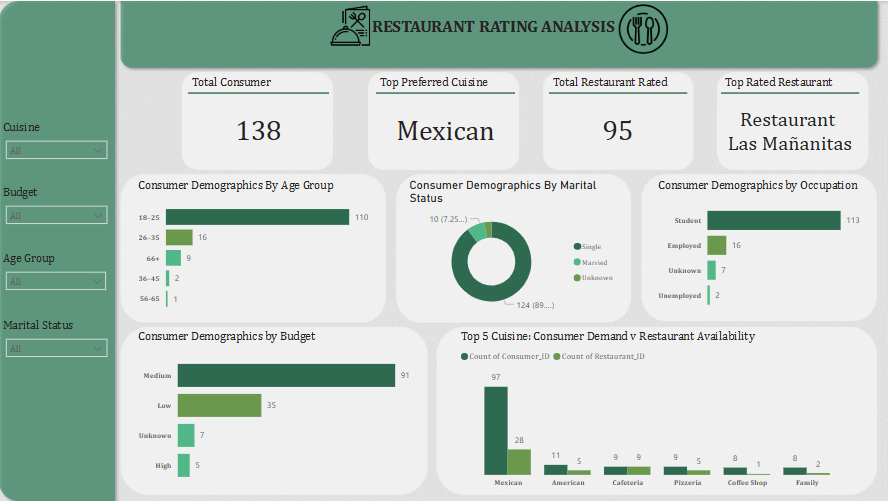

What the dashboard file says about the page in this screenshot:
{"tool":"powerbi","page":{"name":"Page 4","canvas":[1280,720],"ordinal":1},"visuals":[{"type":"barChart","title":"Consumer Demographics By Age Group","fields":{"Y":["CountNonNull(consumers.Consumer_ID)"],"Category":["consumers.Age Group"]},"box":[194.4,254.9,348.5,203],"z":0},{"type":"donutChart","title":"Consumer Demographics By Marital Status","fields":{"Category":["consumers.Marital_Status"],"Y":["CountNonNull(consumers.Consumer_ID)"]},"box":[586.1,254.9,312.5,203],"z":1000},{"type":"clusteredBarChart","title":"Consumer Demographics by Occupation","fields":{"Category":["consumers.Occupation"],"Y":["CountNonNull(consumers.Consumer_ID)"]},"box":[943.2,254.9,305.3,203],"z":2000},{"type":"clusteredBarChart","title":"Consumer Demographics by Budget","fields":{"Category":["consumers.Budget"],"Y":["CountNonNull(consumers.Consumer_ID)"]},"box":[194.8,471.9,402.6,236.7],"z":3000},{"type":"clusteredColumnChart","title":"Top 5 Cuisine: Consumer Demand v Restaurant Availability","fields":{"Y":["CountNonNull(consumer_preferences.Consumer_ID)","CountNonNull(restaurant_cuisines.Restaurant_ID)"],"Category":["Cuisine_Dim.Cuisine"]},"box":[659.5,472.3,578.9,236.2],"z":4000},{"type":"card","title":"Total Consumer","fields":{"Values":["Count(consumers.Consumer_ID)"]},"box":[272.2,106.6,203,128.2],"z":5000},{"type":"card","title":"Top Preferred Cuisine","fields":{"Values":["ratings.Top_Pref_Cuisine"]},"box":[542.9,106.6,200.2,128.2],"z":6000},{"type":"card","title":"Total Restaurant Rated","fields":{"Values":["Count(restaurant_cuisines.Restaurant_ID)"]},"box":[792,106.6,198.7,128.2],"z":7000},{"type":"card","title":"Top Rated Restaurant","fields":{"Values":["ratings.Top_Rated_Restaurant"]},"box":[1039.7,106.6,198.7,128.2],"z":8000},{"type":"slicer","title":"Cuisine","fields":{"Values":["Cuisine_Dim.Cuisine"]},"box":[0,171.4,165.6,73.4],"z":9000},{"type":"slicer","title":"Budget","fields":{"Values":["consumers.Budget"]},"box":[0,265,165.6,76.3],"z":10000},{"type":"slicer","title":"Age Group","fields":{"Values":["consumers.Age Group"]},"box":[0,360,164.2,76.3],"z":11000},{"type":"slicer","title":"Marital Status","fields":{"Values":["consumers.Marital_Status"]},"box":[0,456.5,165.6,85],"z":12000},{"type":"textbox","box":[414.7,0,576,93.6],"z":13000},{"type":"image","box":[459.4,0,92.2,70.6],"z":14000},{"type":"image","box":[865.4,0,125.3,80.6],"z":15000}]}

Visuals, with their boxes in screenshot pixels (x1, y1, x2, y2), scaled from the page's 1280x720 canvas onto the 888x501 screenshot:
"Consumer Demographics By Age Group" barChart: [135, 177, 377, 319]
"Consumer Demographics By Marital Status" donutChart: [407, 177, 623, 319]
"Consumer Demographics by Occupation" clusteredBarChart: [654, 177, 866, 319]
"Consumer Demographics by Budget" clusteredBarChart: [135, 328, 414, 493]
"Top 5 Cuisine: Consumer Demand v Restaurant Availability" clusteredColumnChart: [458, 329, 859, 493]
"Total Consumer" card: [189, 74, 330, 163]
"Top Preferred Cuisine" card: [377, 74, 516, 163]
"Total Restaurant Rated" card: [549, 74, 687, 163]
"Top Rated Restaurant" card: [721, 74, 859, 163]
"Cuisine" slicer: [0, 119, 115, 170]
"Budget" slicer: [0, 184, 115, 237]
"Age Group" slicer: [0, 250, 114, 304]
"Marital Status" slicer: [0, 318, 115, 377]
textbox: [288, 0, 687, 65]
image: [319, 0, 383, 49]
image: [600, 0, 687, 56]
